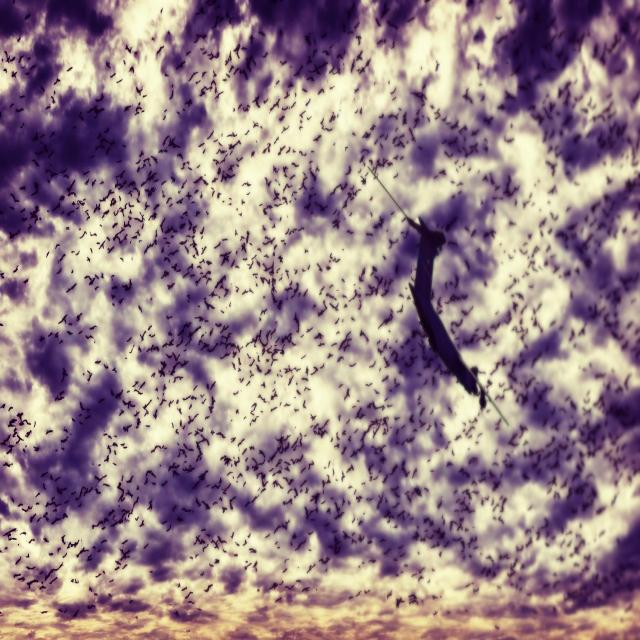airplane: (369, 168, 509, 428)
